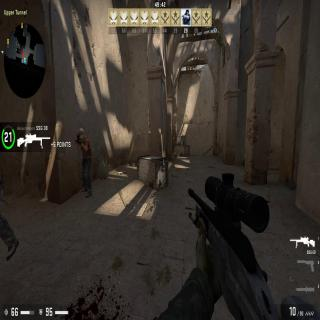T-Body: (0, 164, 17, 261), (77, 127, 93, 199)
T-Head: (78, 128, 84, 138)
